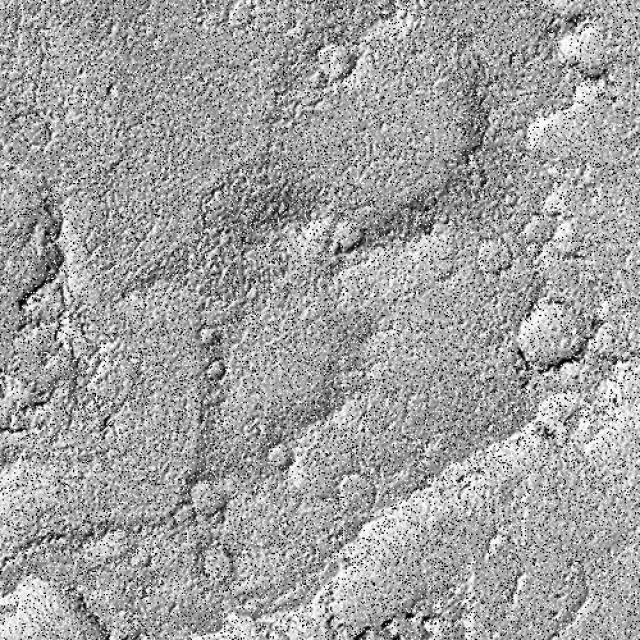crater: (83, 0, 581, 230)
